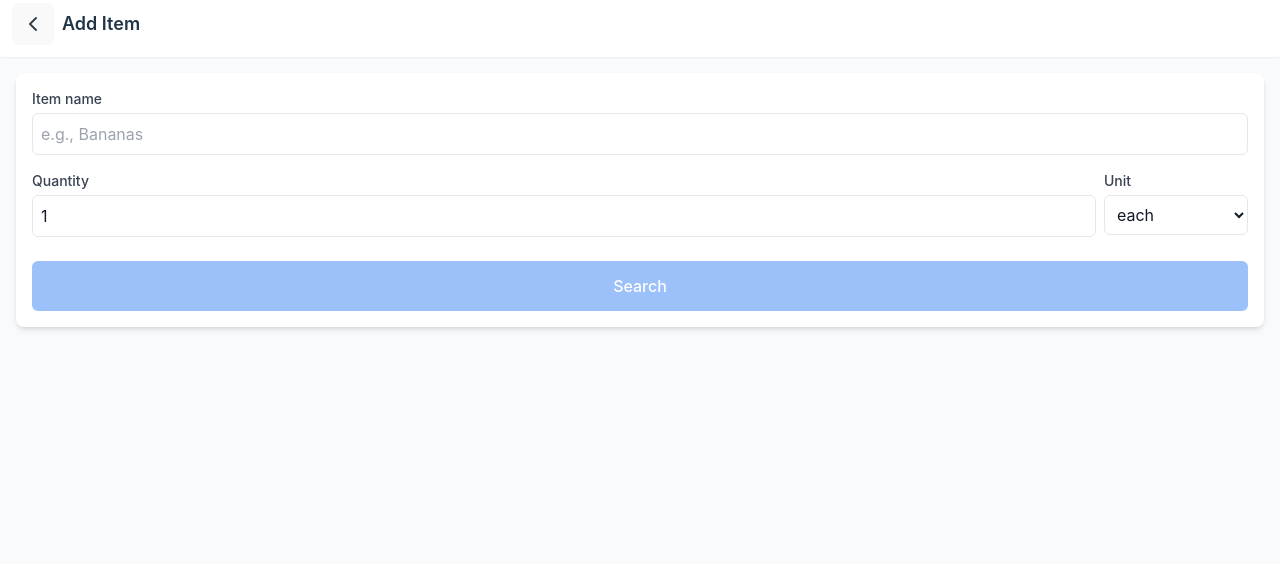
AddItemScreen search › falls back to the local cache, and says so, when the server cannot be reached
This screenshot has width=1280, height=564.
In the field: [640, 134] box [32,113,1248,155], type "bananas"
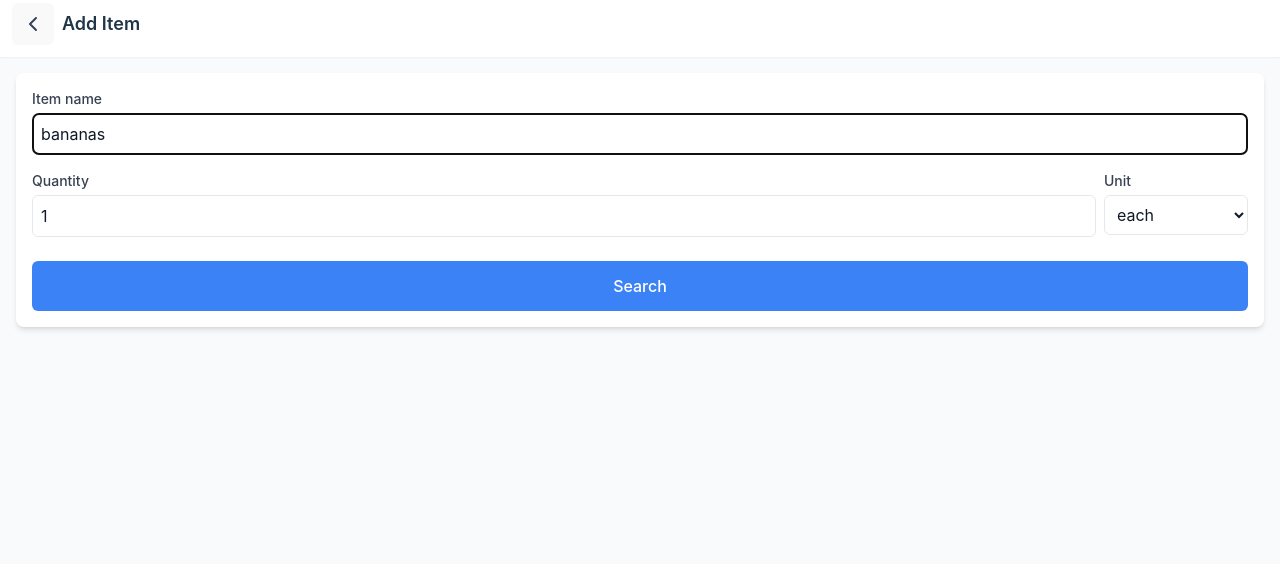
Click the button "Search": [640, 286] box [32,261,1248,311]
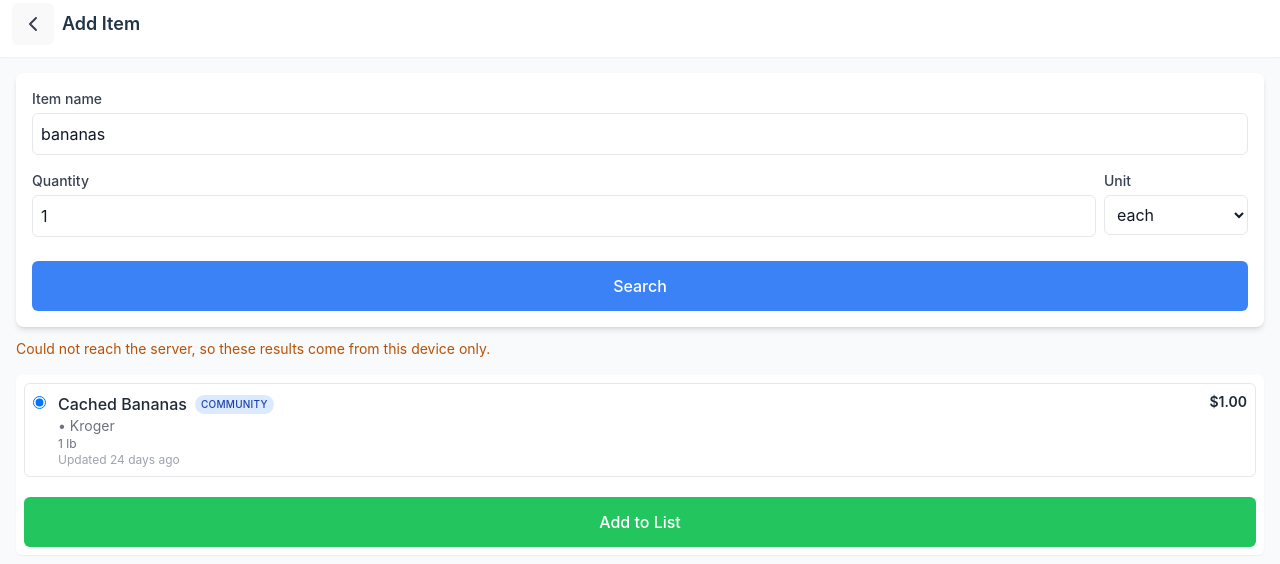
Now the text "Cached Bananas" is shown, box [58,394,187,414]
Now the text "Could not reach the server" is shown, box [16,340,490,357]
